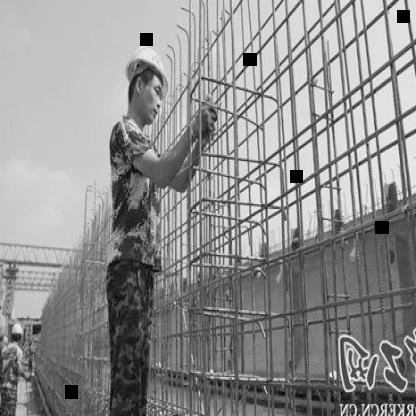helmet: (120, 35, 172, 129), (11, 320, 25, 347)
